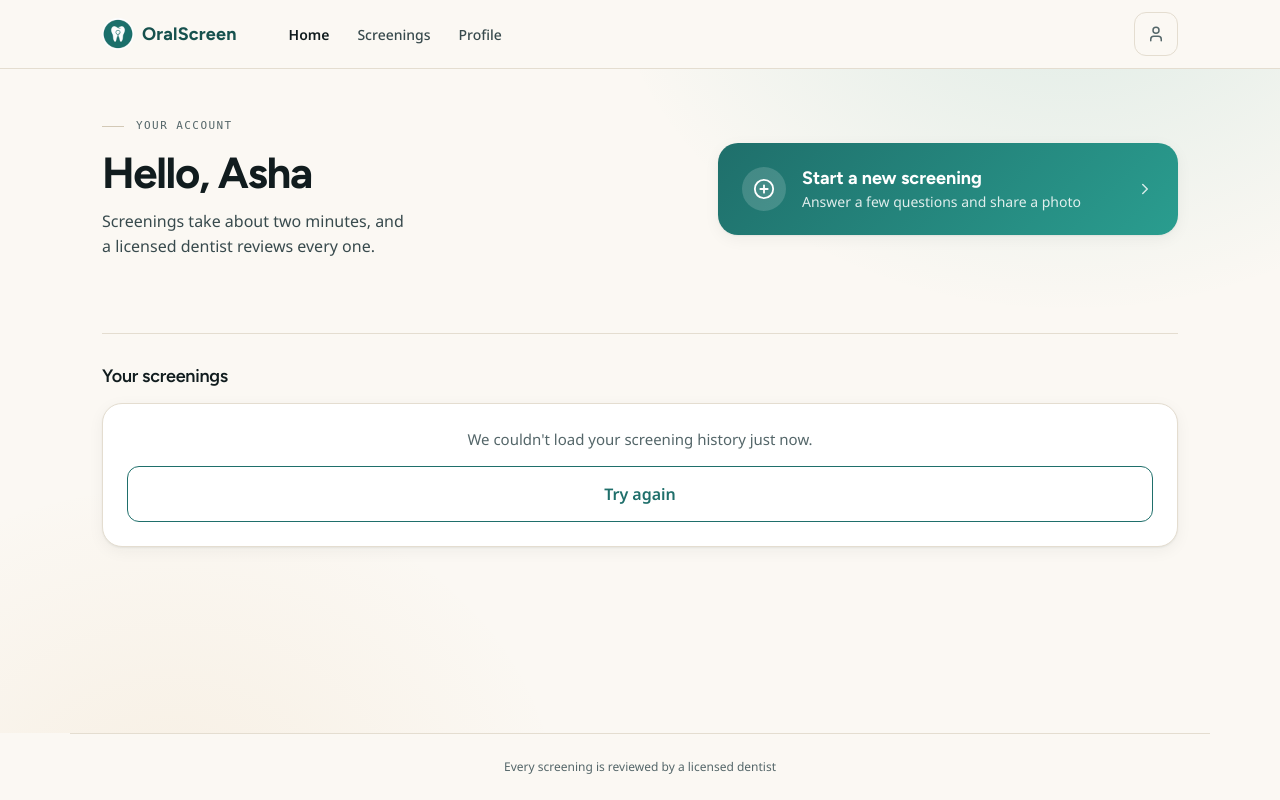
Test case: starting a screening › retries the history request without a reload
This screenshot has width=1280, height=800.
Click the button "Try again".
click(640, 494)  # box top-left (127, 466), bottom-right (1153, 522)
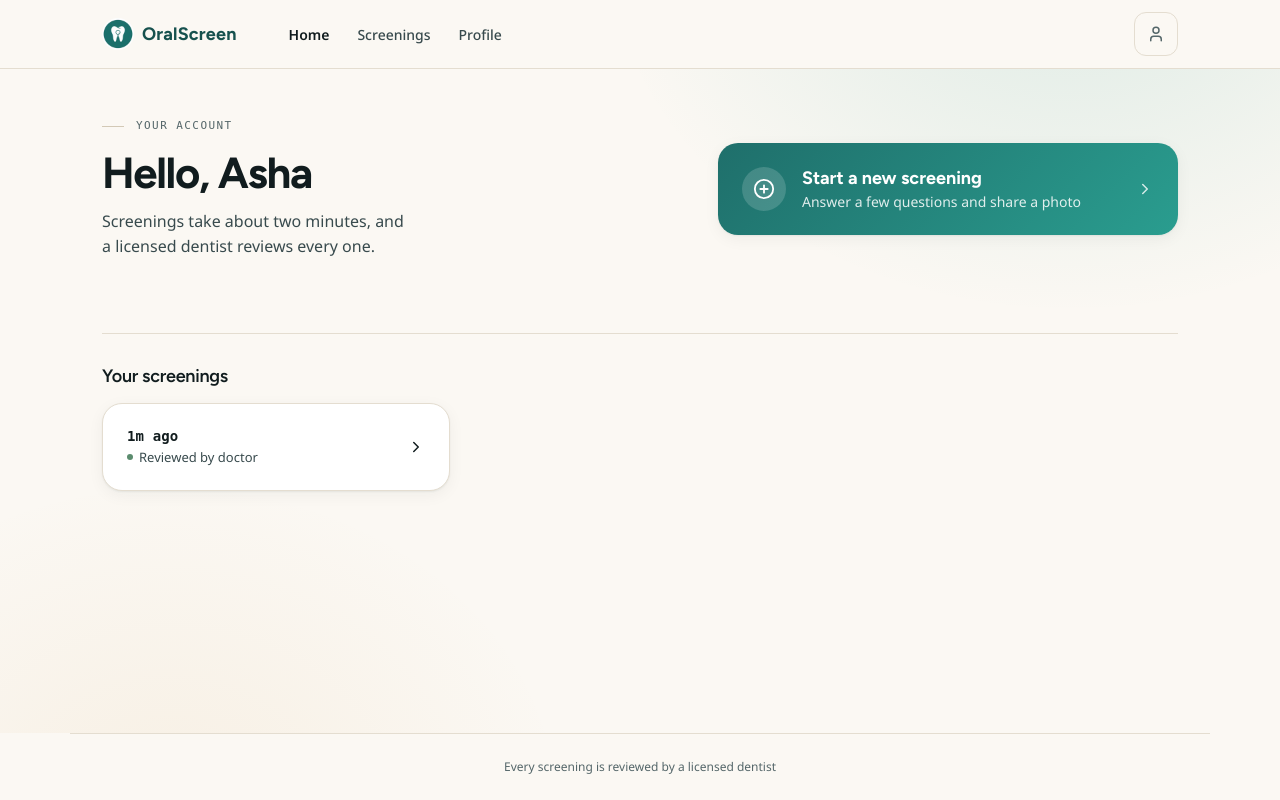
Check: the text "Reviewed by doctor" is shown, box top-left (127, 448), bottom-right (258, 466)
